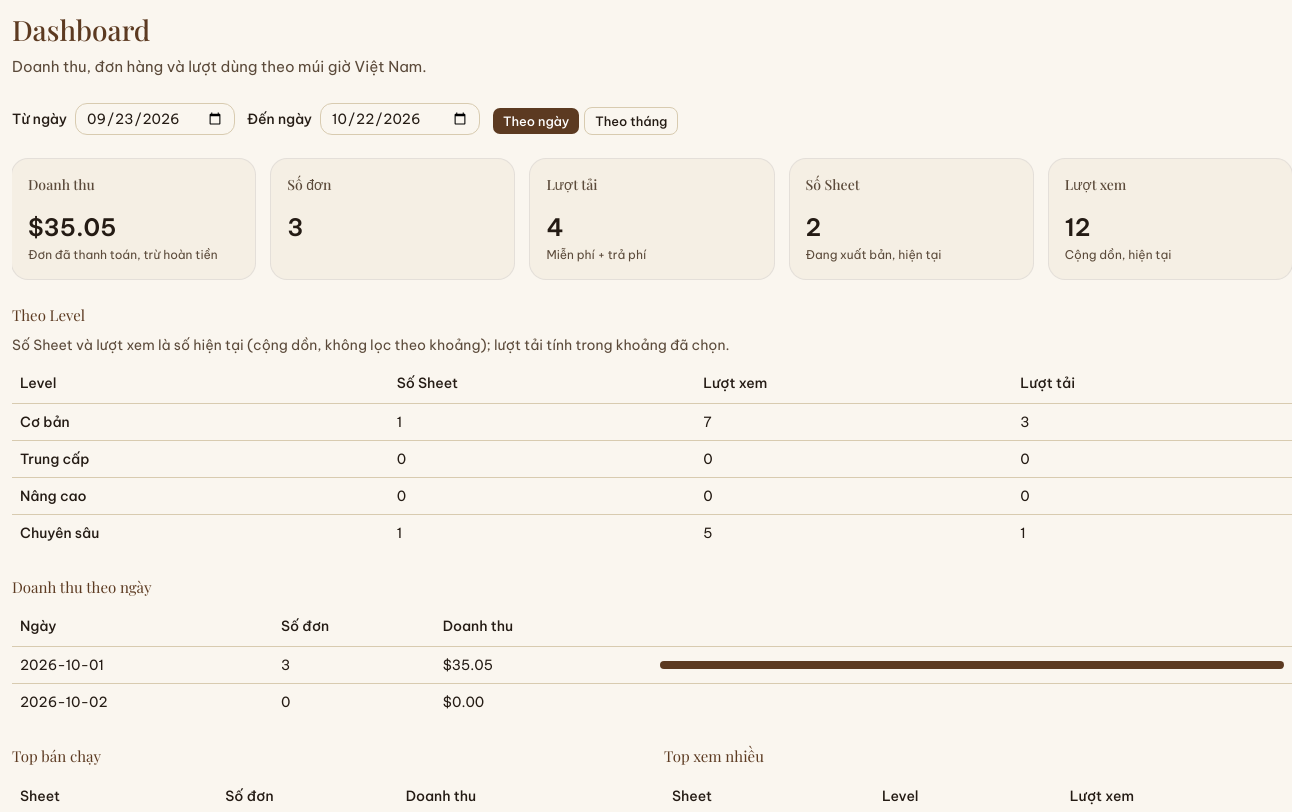
Trang Dashboard › khoảng quá 366 ngày: báo lỗi, không gọi API với khoảng đó
Expected: the text "$35.05" is shown, [28,212,116,242]
In the date field labelled "Từ ngày": (155, 119) [75,103,235,135], type "2020-01-01"
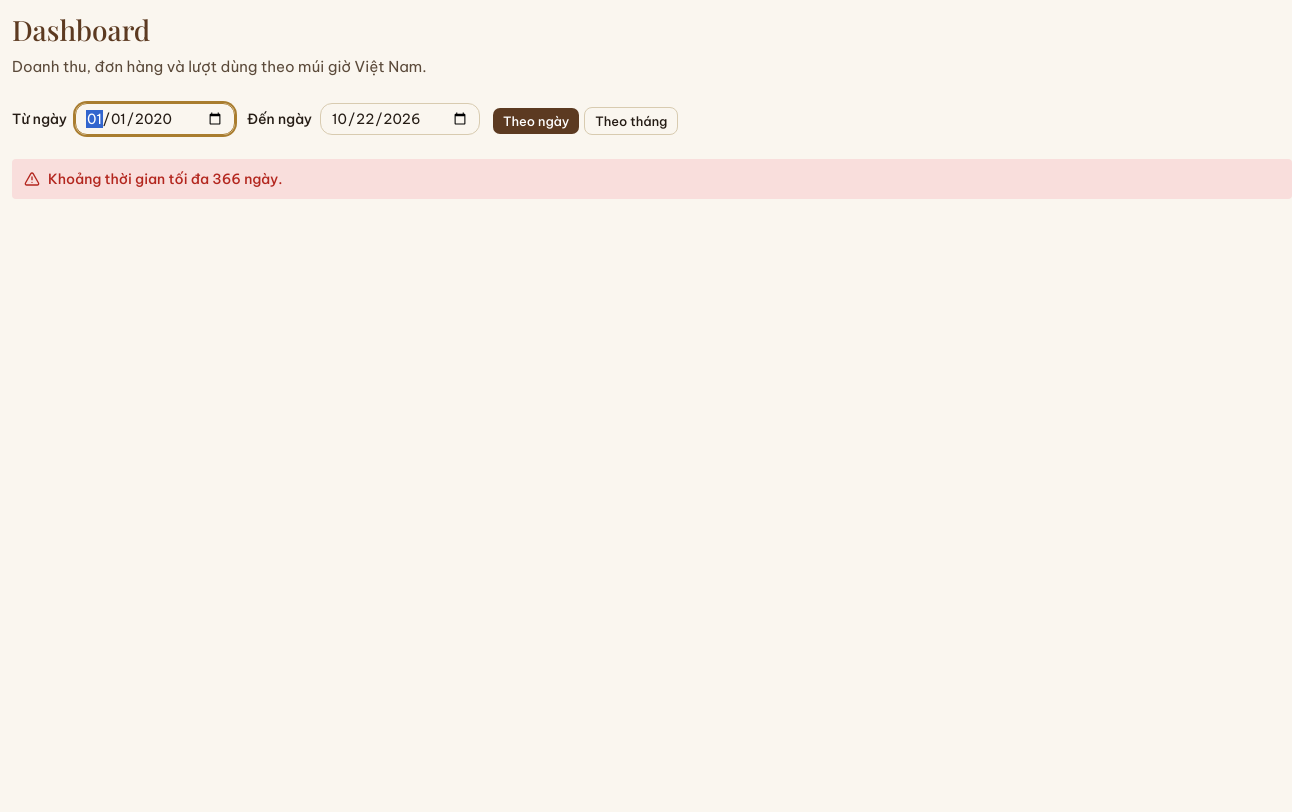
Now the text "Khoảng thời gian tối đa 366 ngày." is shown, box [48,169,282,189]
